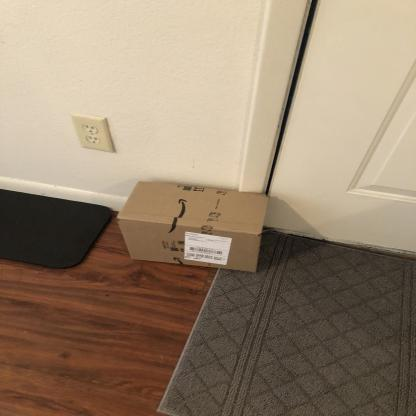package: (113, 177, 275, 276)
